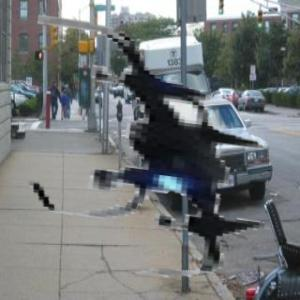drone: (23, 15, 288, 280)
